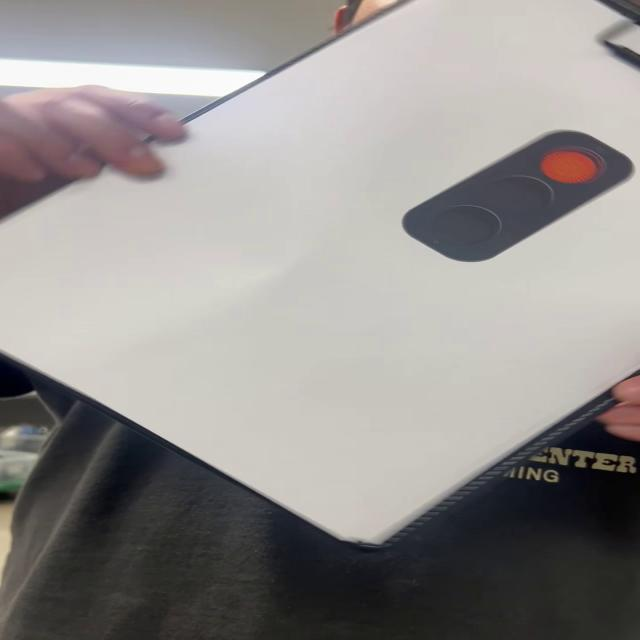red: (399, 127, 636, 265)
